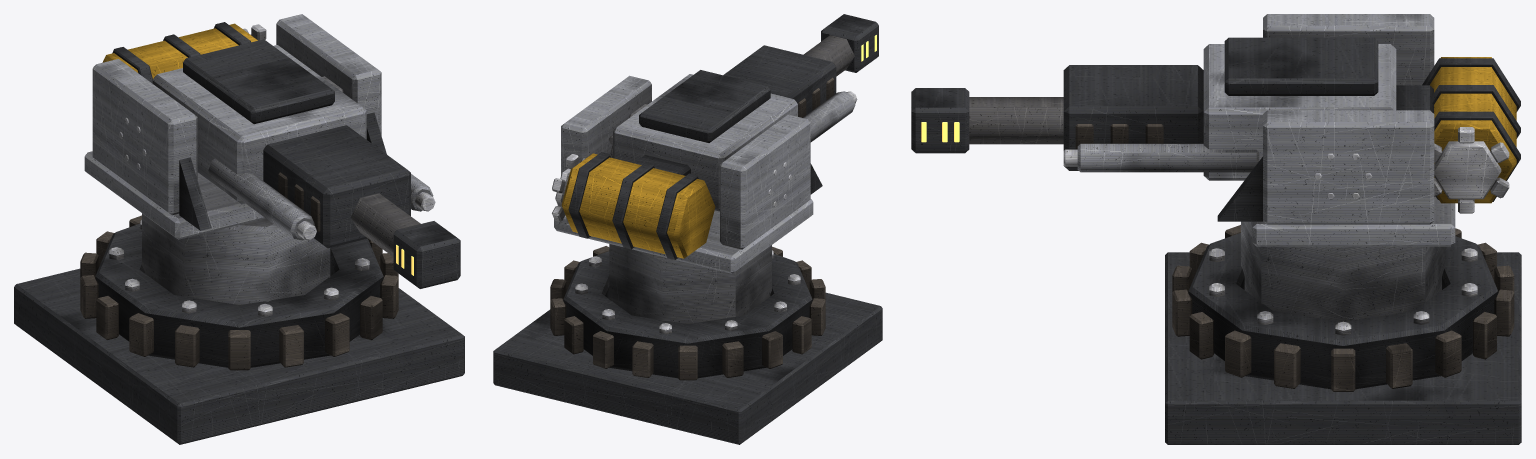
Rendered from R4W_Basic_LOD1.glb.
3 views of the same model, side by side, from view 1: azimuth 30°, elevation 25°; view 2: azimuth 150°, elevation 25°; view 3: azimuth 270°, elevation 25° (orthographic). The views are drawn at different scales.
Parts seen in each view (by area): view 1: R4W_Basic_LOD1; view 2: R4W_Basic_LOD1; view 3: R4W_Basic_LOD1.
Part boxes in pixels (x1,y1,x2,y2): R4W_Basic_LOD1: (14, 14, 464, 444); R4W_Basic_LOD1: (493, 14, 882, 444); R4W_Basic_LOD1: (911, 14, 1521, 444).
Bounding box in the file's own units: 0.51 × 0.494 × 0.873.
Materials: 6 (5 with a texture image).
